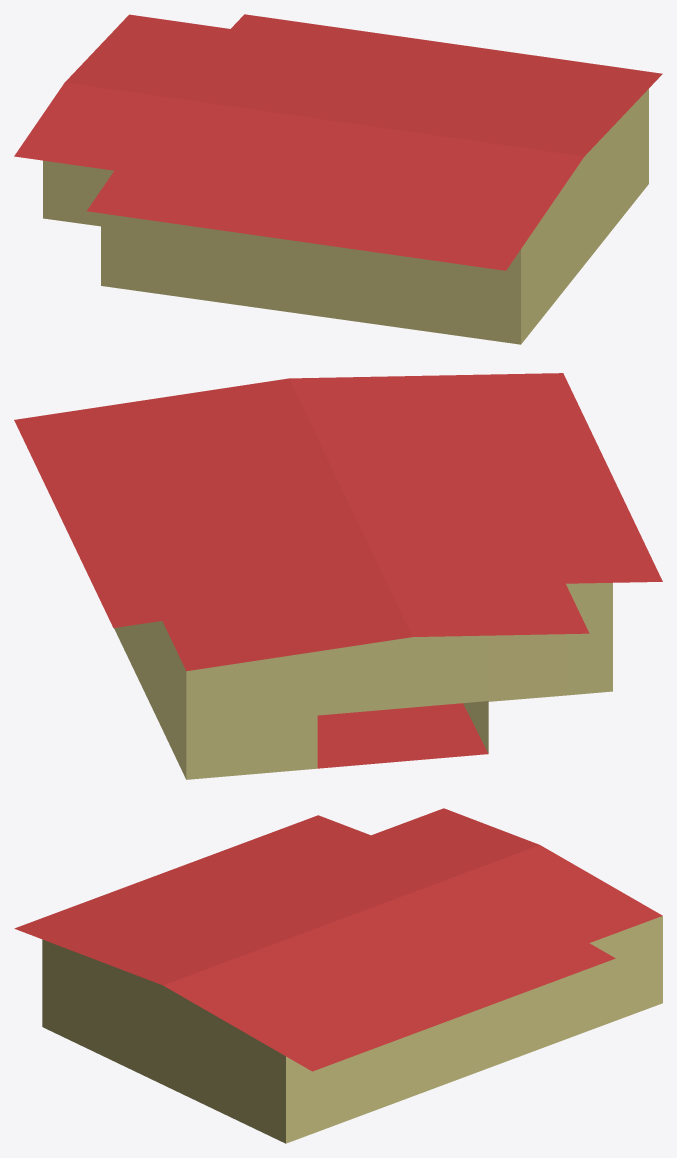
The picture shows the model from 3 angles, top to bottom: view 1: azimuth 30°, elevation 25°; view 2: azimuth 150°, elevation 25°; view 3: azimuth 270°, elevation 25°; orthographic projection. The views are drawn at different scales.
Bounding box in the file's own units: 89.55 × 95.11 × 16.07.
